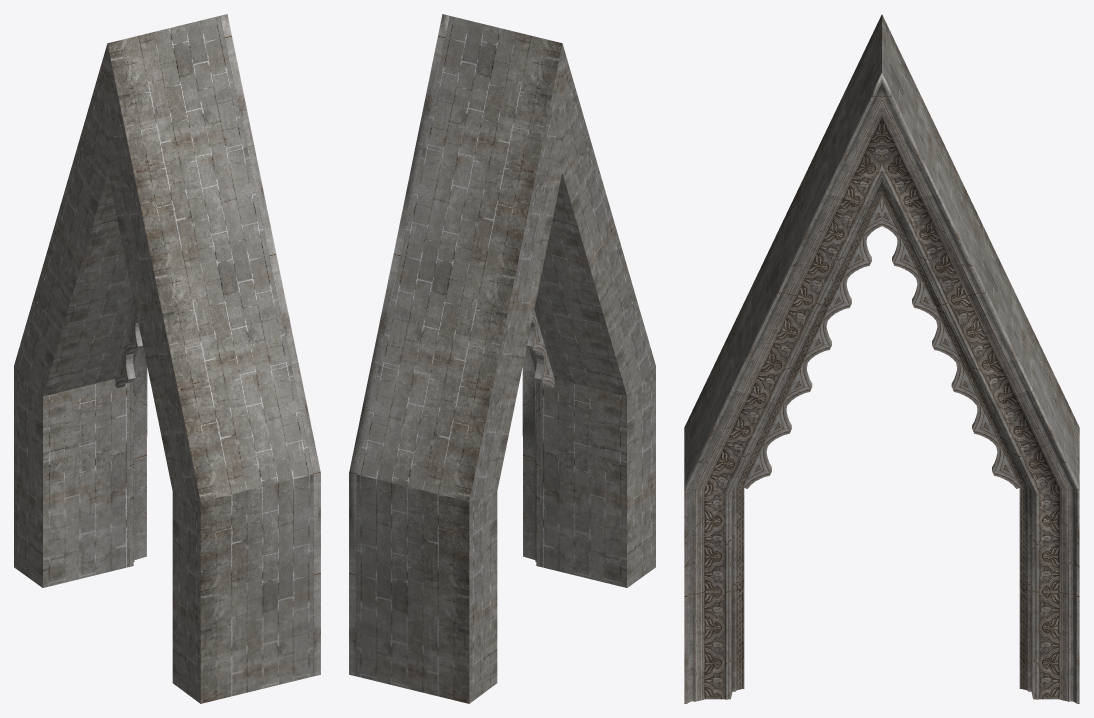
The model's file is bg_lut_lucastle_churchentry01a_sm_ksh.FBX.
The picture shows the model from 3 angles, left to right: view 1: azimuth 30°, elevation 25°; view 2: azimuth 150°, elevation 25°; view 3: azimuth 270°, elevation 25°; orthographic projection. The views are drawn at different scales.
Parts seen in each view (by area): view 1: bg_lut_lucastle_churchentry01a_sm_ksh; view 2: bg_lut_lucastle_churchentry01a_sm_ksh; view 3: bg_lut_lucastle_churchentry01a_sm_ksh.
Boxes of the visible parts, left/top/right/bottom form: bg_lut_lucastle_churchentry01a_sm_ksh: left=14, top=14, right=320, bottom=703; bg_lut_lucastle_churchentry01a_sm_ksh: left=349, top=14, right=655, bottom=703; bg_lut_lucastle_churchentry01a_sm_ksh: left=684, top=14, right=1079, bottom=703.
Size of the model in its own units: 224 by 1057 by 603.
